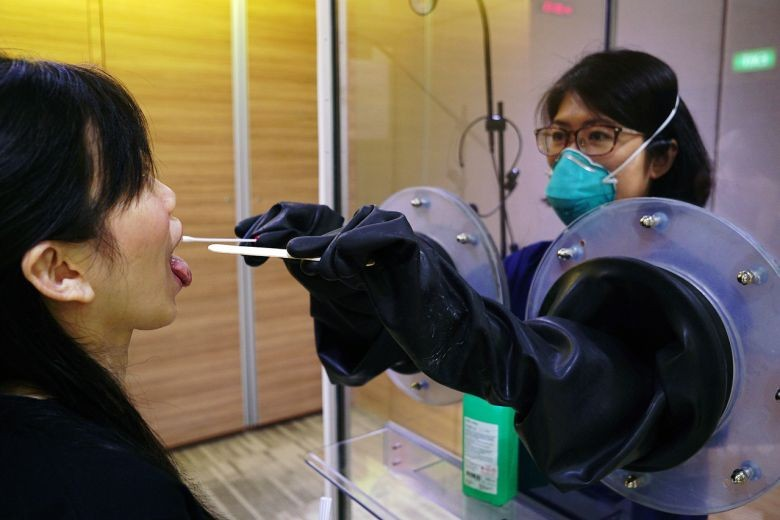with_mask: (544, 121, 628, 232)
without_mask: (107, 161, 196, 335)
